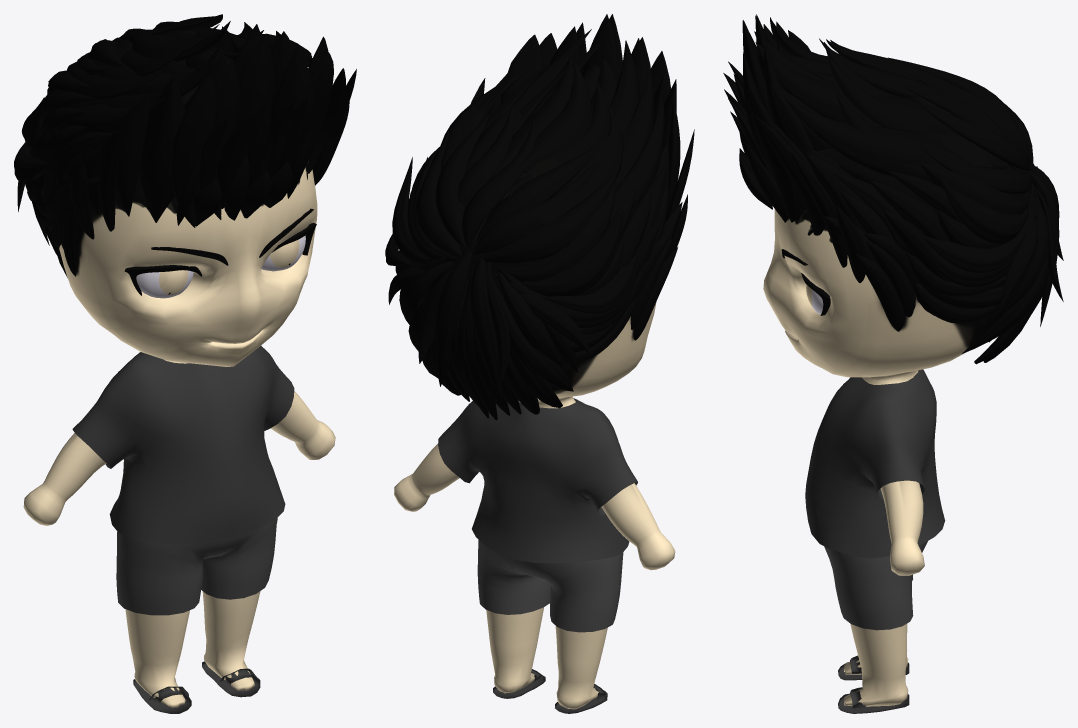
The model's file is Wicak_mesh.fbx.
The picture shows the model from 3 angles, left to right: view 1: azimuth 30°, elevation 25°; view 2: azimuth 150°, elevation 25°; view 3: azimuth 270°, elevation 25°; orthographic projection. The views are drawn at different scales.
Parts seen in each view (by area): view 1: alis.001; view 2: alis.001; view 3: alis.001.
Part boxes in pixels (x1,y1,x2,y2): alis.001: (14, 14, 356, 713); alis.001: (385, 14, 694, 713); alis.001: (723, 14, 1063, 713).
Size of the model in its own units: 76.44 by 170 by 77.67.
Materials: 7 (2 with a texture image).
